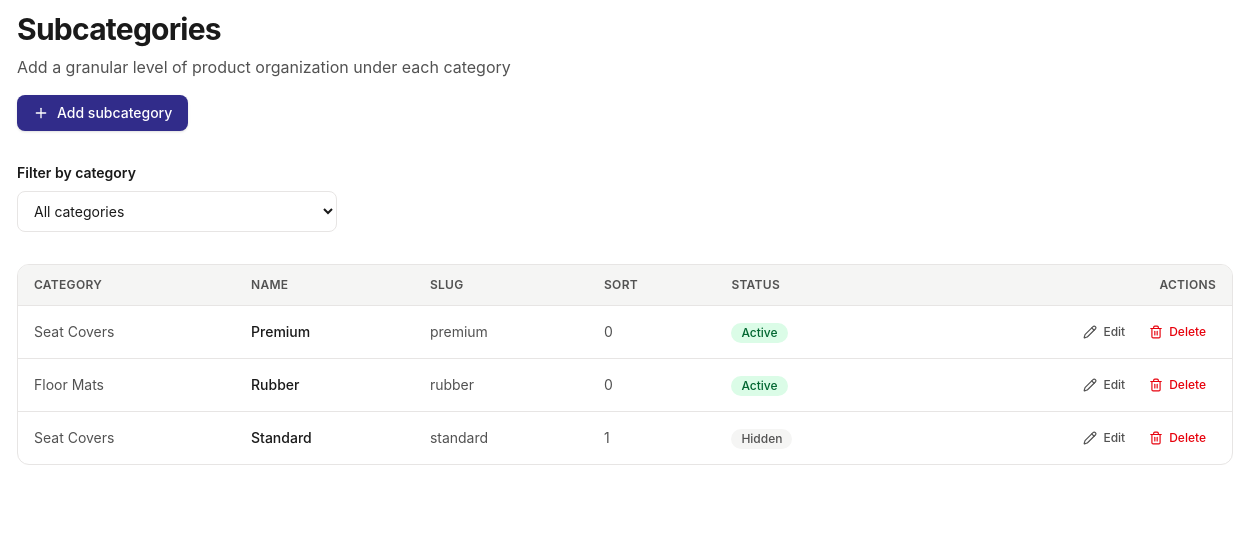
Test: SubcategoriesAdminPage › shows an empty state for a category without subcategories
Expected: the text "Premium" is shown, x1=235 y1=306 x2=414 y2=358
Select "Lighting" in the dropdown labelled "Filter by category" at (177, 212), box x1=17 y1=191 x2=337 y2=232
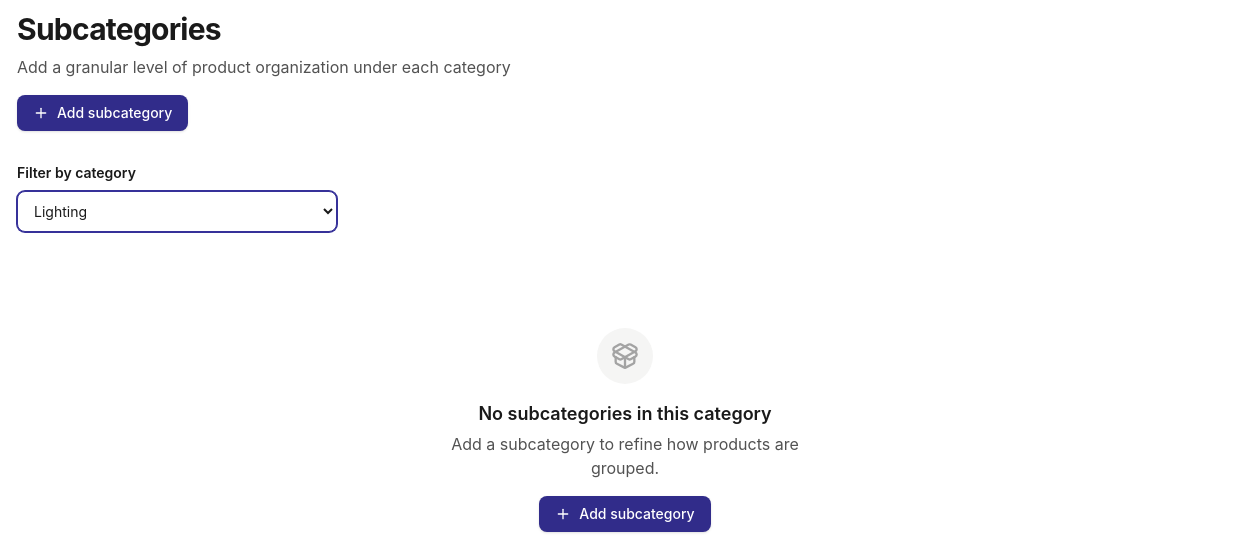
Now the heading "No subcategories in this category" is shown, box x1=478 y1=400 x2=772 y2=428
